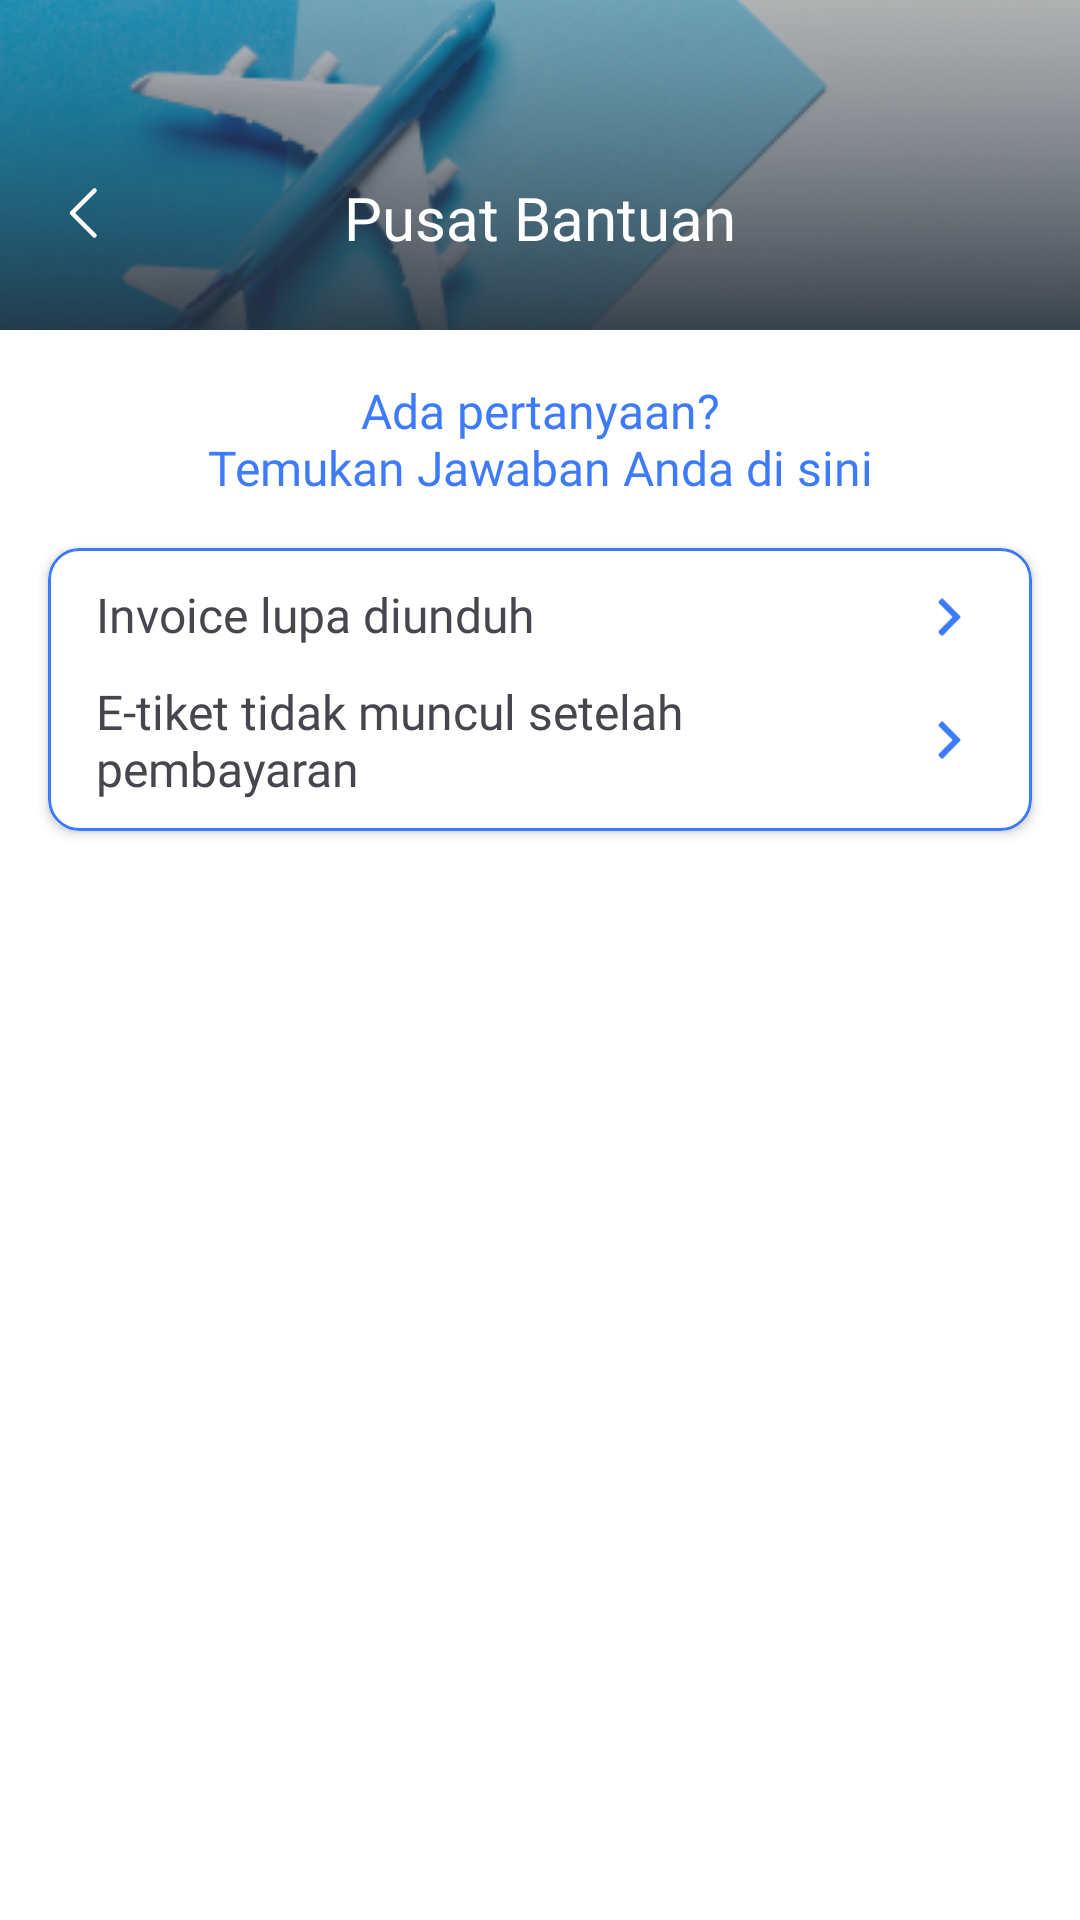

Screen size 1080 × 1920. Icon name, then its center in pixels as (x=x, y=y):
angle right: (x=949, y=617), (x=949, y=740)
